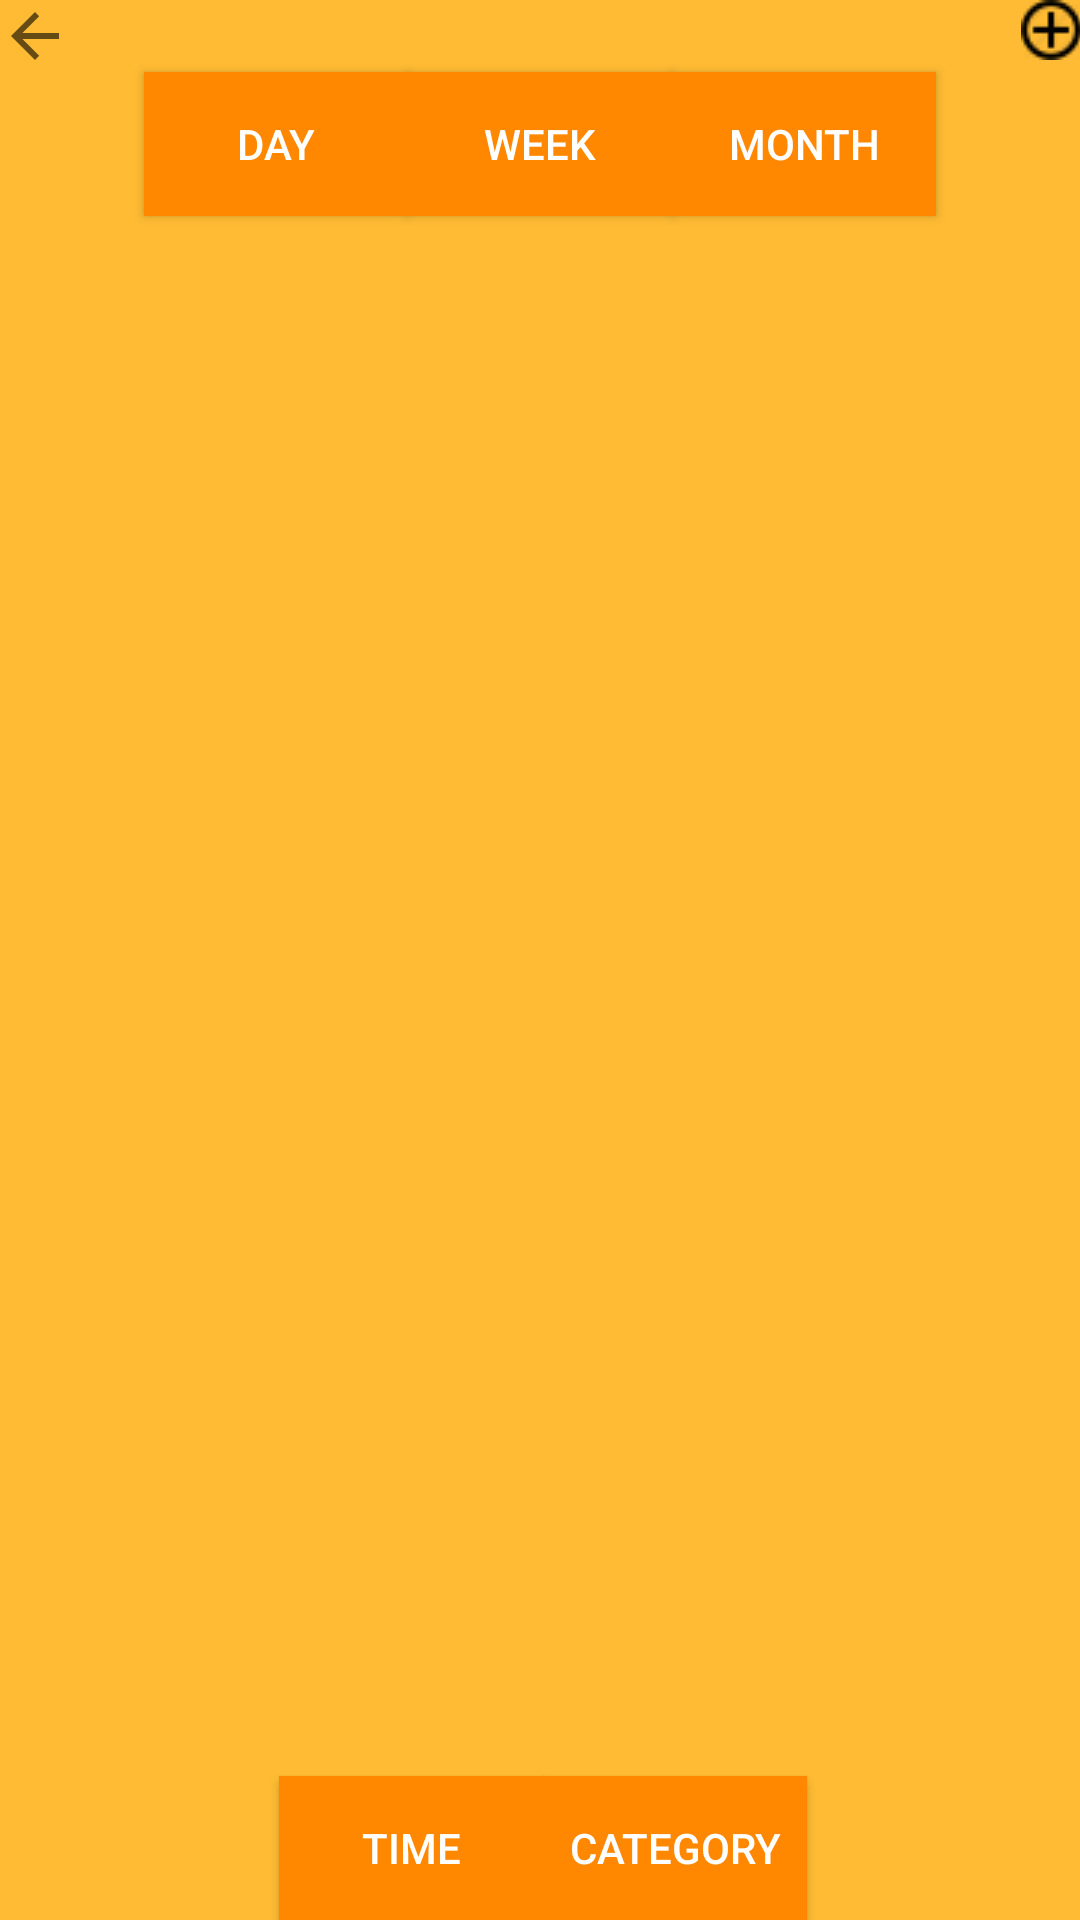

Screen size 1080x1920. Icon name, then its center in pixels as [x,y]:
plus: [1050,30]
